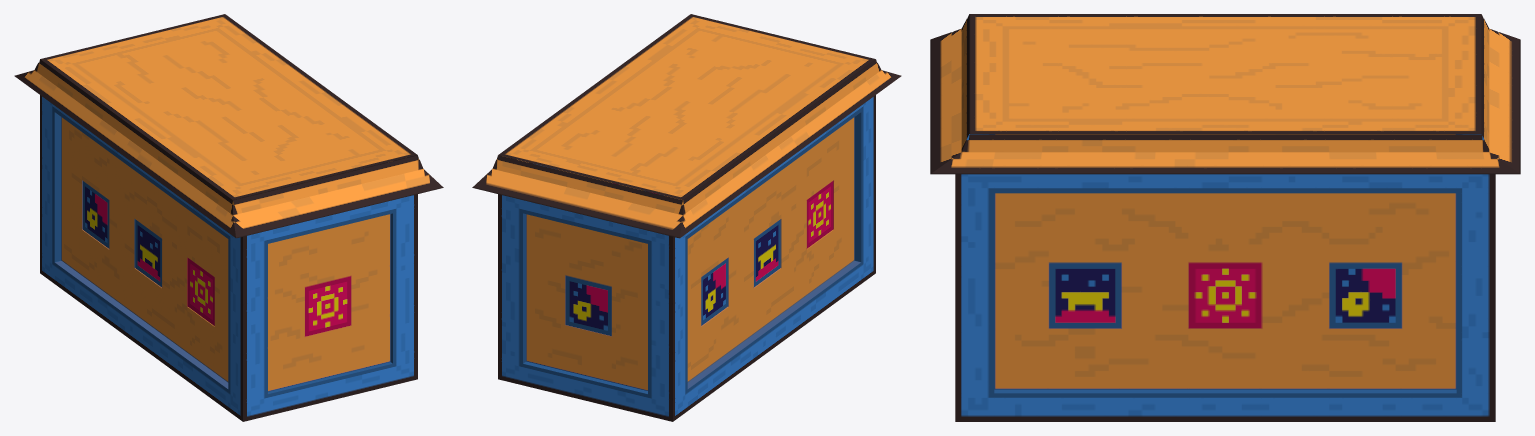
The model's file is backfrommyhouse.fbx.
3 renders of one model, left to right at view 1: azimuth 30°, elevation 25°; view 2: azimuth 150°, elevation 25°; view 3: azimuth 270°, elevation 25°, orthographic. The views are drawn at different scales.
Visible parts, largest first — view 1: Cube; view 2: Cube; view 3: Cube.
Boxes of the visible parts, x1,y1,x2,y2 form: Cube: [14, 14, 443, 421]; Cube: [472, 14, 901, 421]; Cube: [930, 14, 1520, 421].
Size of the model in its own units: 224 by 226 by 415.
